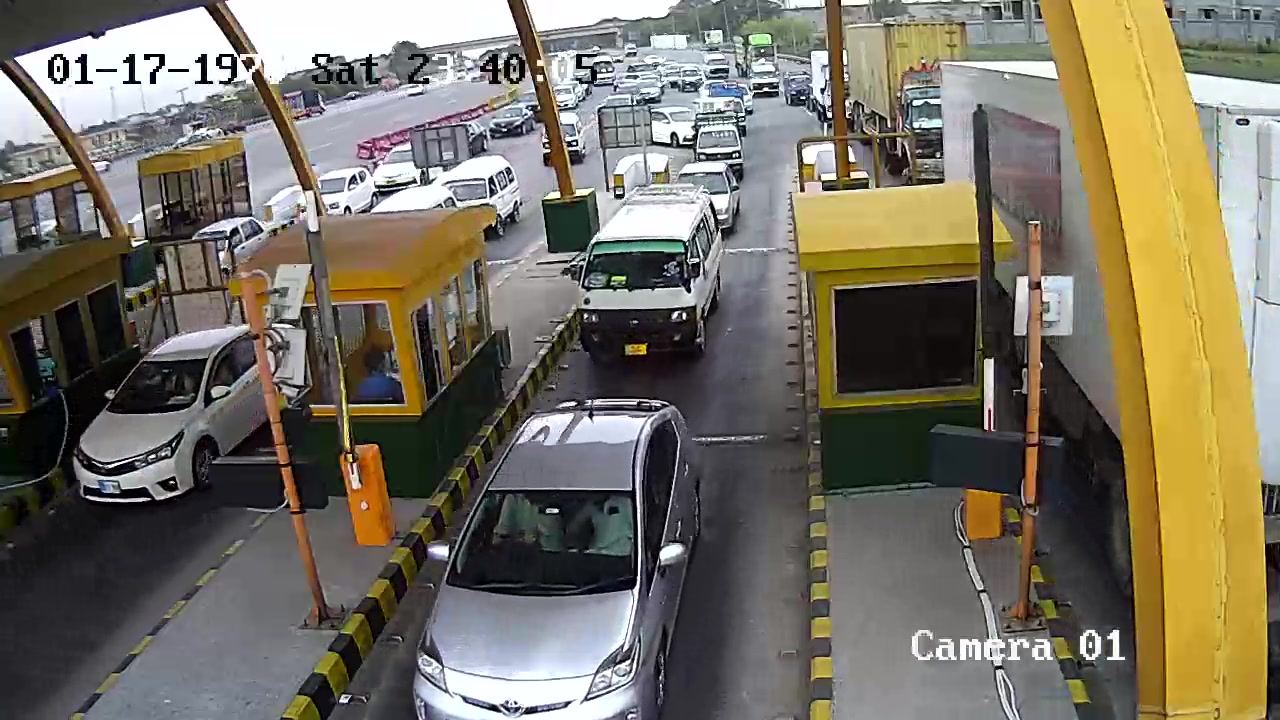F3: (573, 182, 725, 373)
